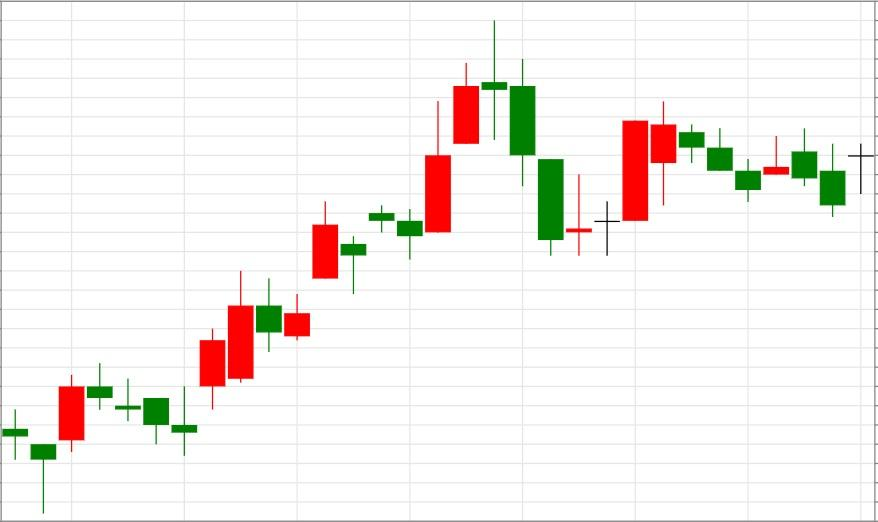evening_star_fall: (170, 21, 536, 457)
three_black_crows_fall: (536, 101, 762, 256)
